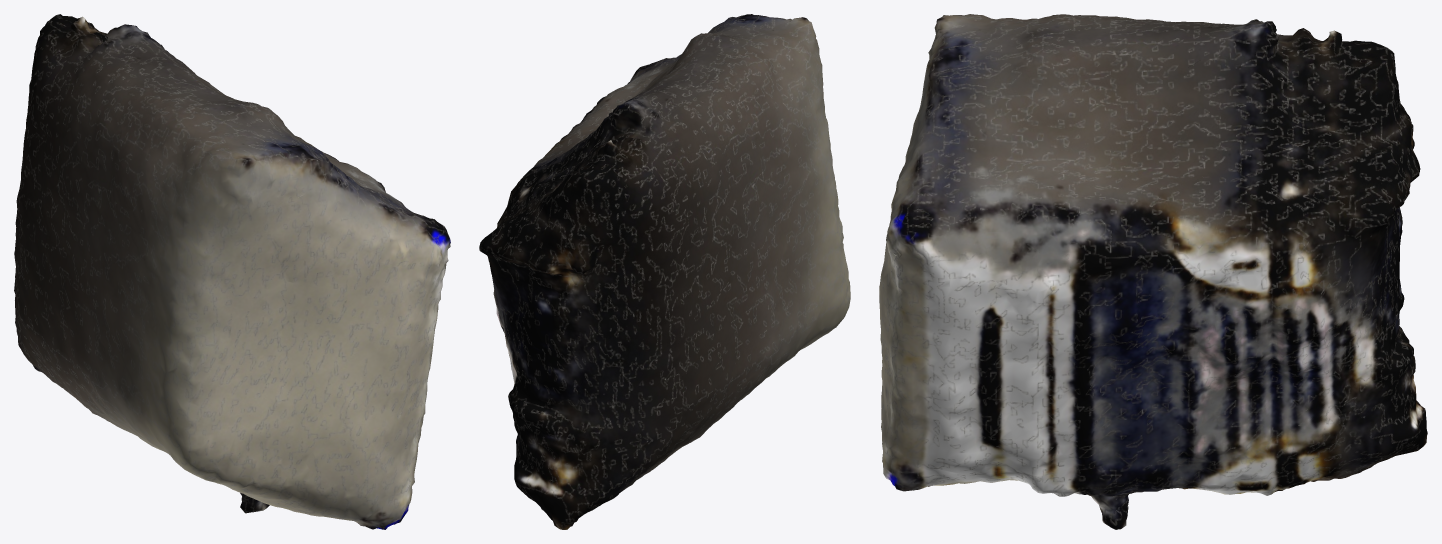
File: truck_after.glb
3 renders of one model, left to right at view 1: azimuth 30°, elevation 25°; view 2: azimuth 150°, elevation 25°; view 3: azimuth 270°, elevation 25°, orthographic. The views are drawn at different scales.
Visible parts, largest first — view 1: pose0; view 2: pose0; view 3: pose0.
Boxes of the visible parts, box(x1,y1,x2,y2) form: pose0: box(14, 14, 450, 529); pose0: box(479, 14, 850, 529); pose0: box(879, 14, 1427, 529).
Size of the model in its own units: 0.4554 by 0.7639 by 0.8016.
1 material, 1 textured.
